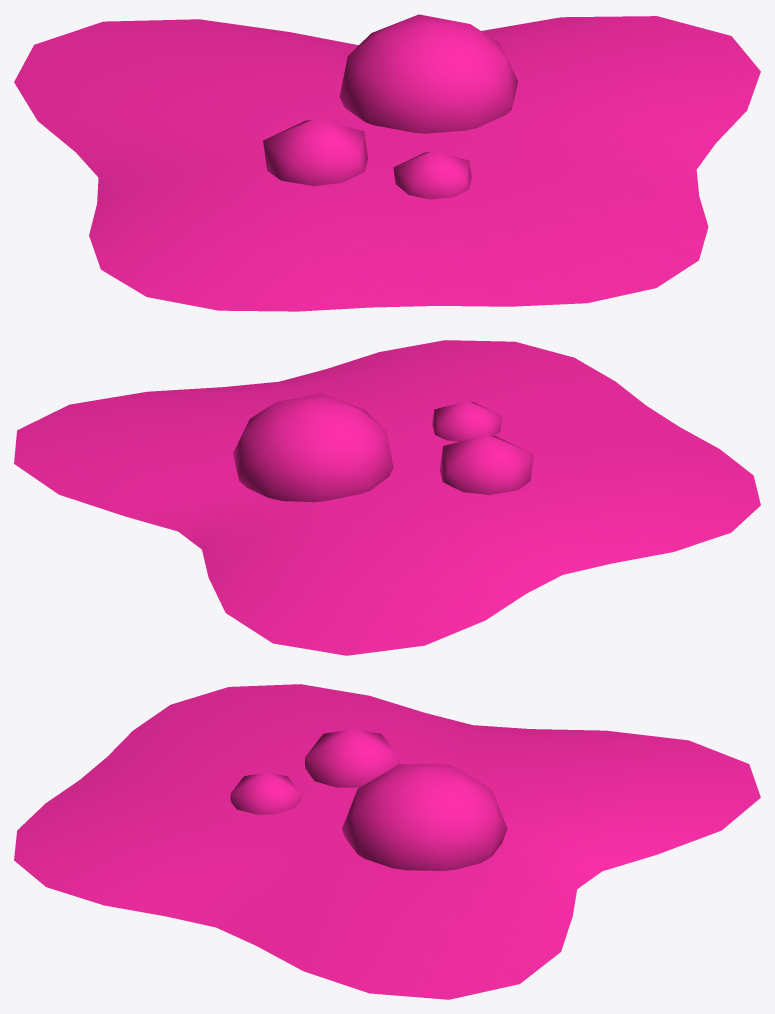
Rendered from w1_09_bubblegum.glb.
3 renders of one model, top to bottom at view 1: azimuth 30°, elevation 25°; view 2: azimuth 150°, elevation 25°; view 3: azimuth 270°, elevation 25°, orthographic. The views are drawn at different scales.
Parts seen in each view (by area): view 1: W1_09_Bubblegum; view 2: W1_09_Bubblegum; view 3: W1_09_Bubblegum.
Boxes of the visible parts, box(x1,y1,x2,y2) form: W1_09_Bubblegum: box(14, 14, 760, 311); W1_09_Bubblegum: box(14, 340, 760, 655); W1_09_Bubblegum: box(14, 684, 760, 999).
Size of the model in its own units: 2.16 by 0.3744 by 2.16.
Materials: 1 (1 with a texture image).
